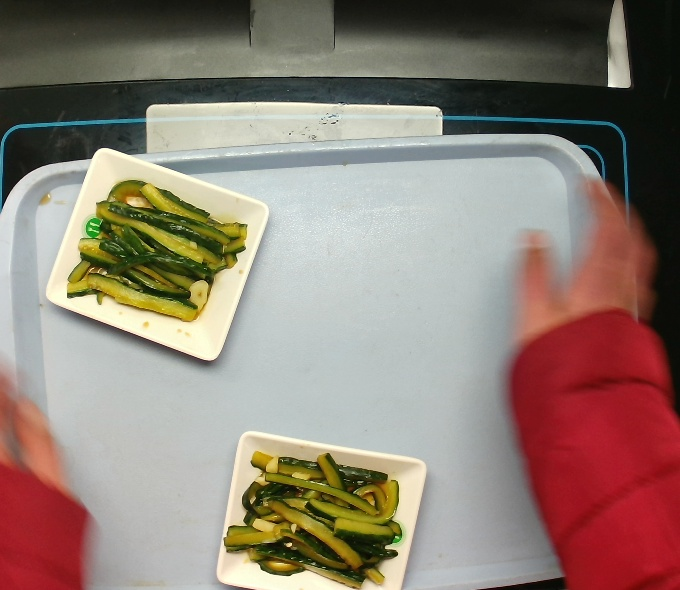wcq-LiangBanHuangGua: (61, 178, 251, 326), (220, 447, 405, 590)
